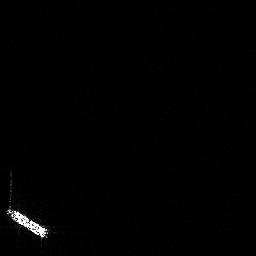ship: (2, 203, 52, 242)
